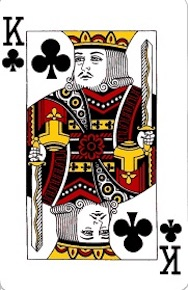KingOfClubs: (1, 11, 186, 280)
